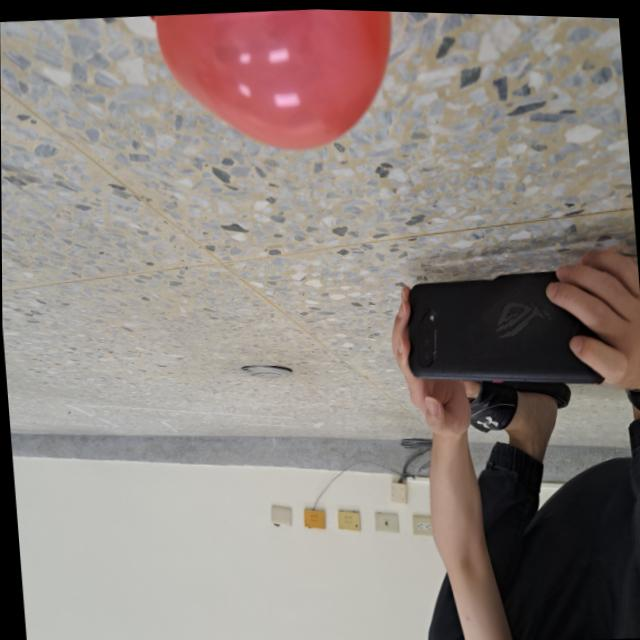red: (144, 3, 404, 163)
